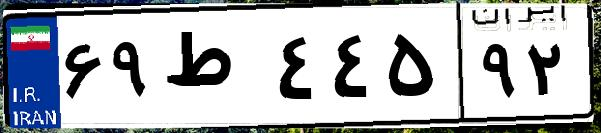2: (525, 38, 570, 115)
4: (270, 28, 330, 110), (330, 28, 385, 110)
5: (385, 28, 445, 110)
6: (57, 26, 110, 100)
9: (475, 38, 525, 113), (110, 28, 158, 98)
ط: (158, 20, 270, 120)
